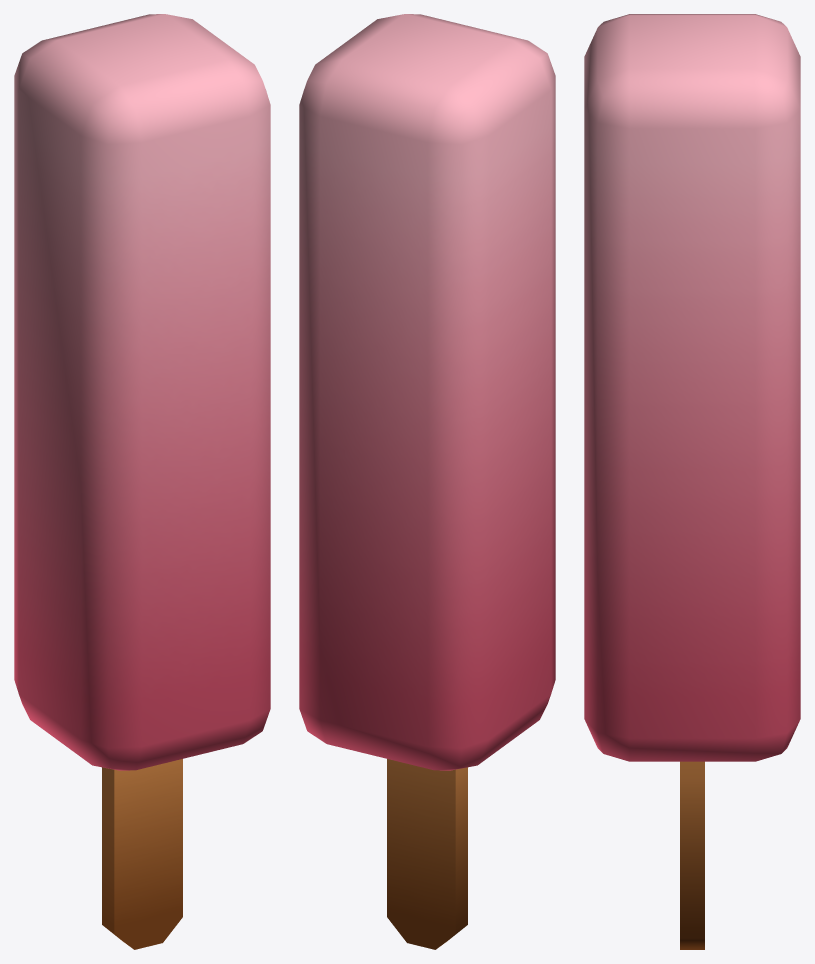
Rendered from m_SquarePopsicle01.fbx.
3 renders of one model, left to right at view 1: azimuth 30°, elevation 25°; view 2: azimuth 150°, elevation 25°; view 3: azimuth 270°, elevation 25°, orthographic.
Parts seen in each view (by area): view 1: m_SquarePopsicle01; view 2: m_SquarePopsicle01; view 3: m_SquarePopsicle01.
Boxes of the visible parts, x1,y1,x2,y2 form: m_SquarePopsicle01: (14,14,270,949); m_SquarePopsicle01: (299,14,555,949); m_SquarePopsicle01: (584,14,800,949).
Bounding box in the file's own units: 5 × 23.01 × 5.
